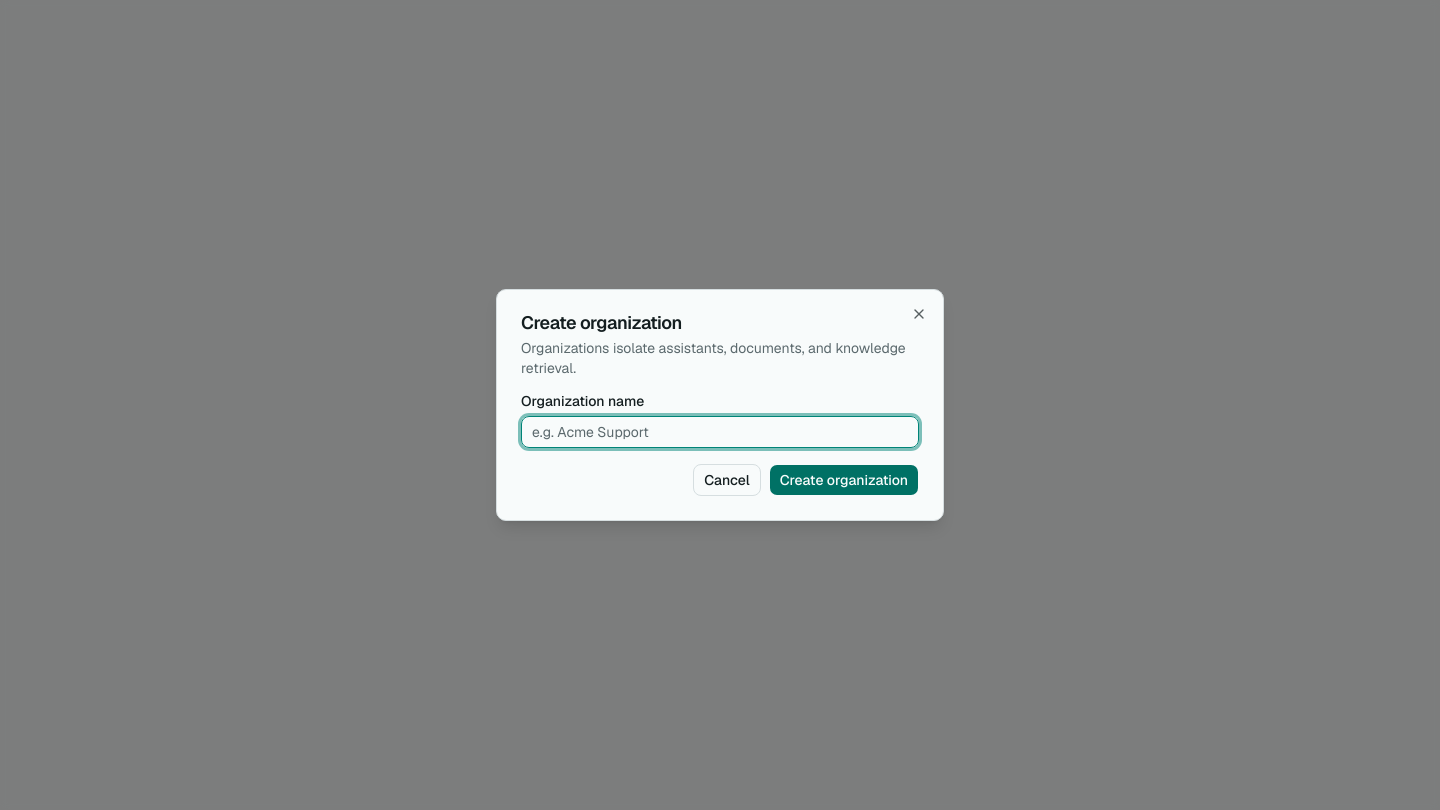
Test case: CreateOrganizationDialog › validates that organization name cannot be empty
What coordinates should you click on to do the following:
click the button "Create organization"
I would click on:
 (844, 480)
Its box is x1=769 y1=464 x2=919 y2=496.
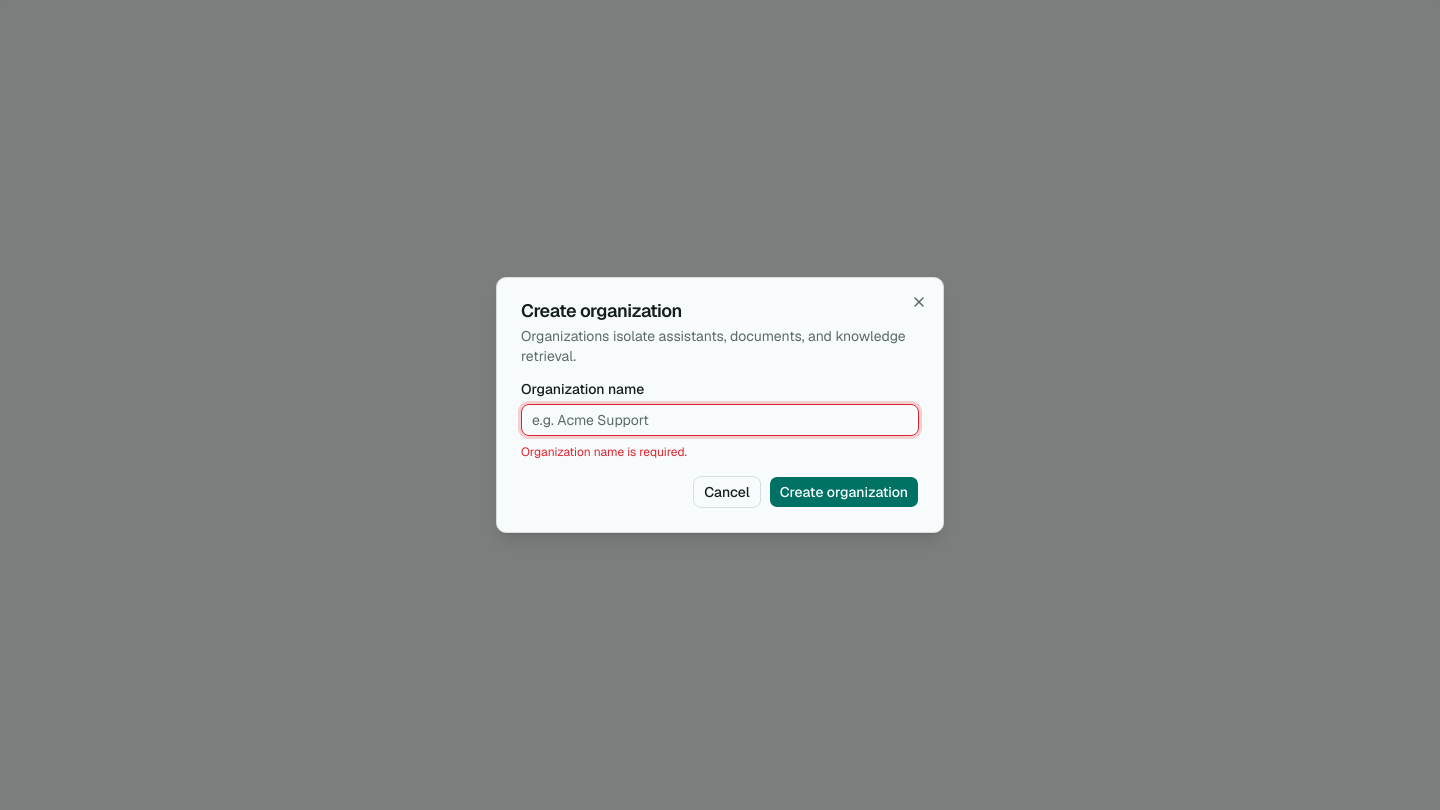
expect the text "Organization name is required." is shown: met, box x1=521 y1=444 x2=687 y2=460
